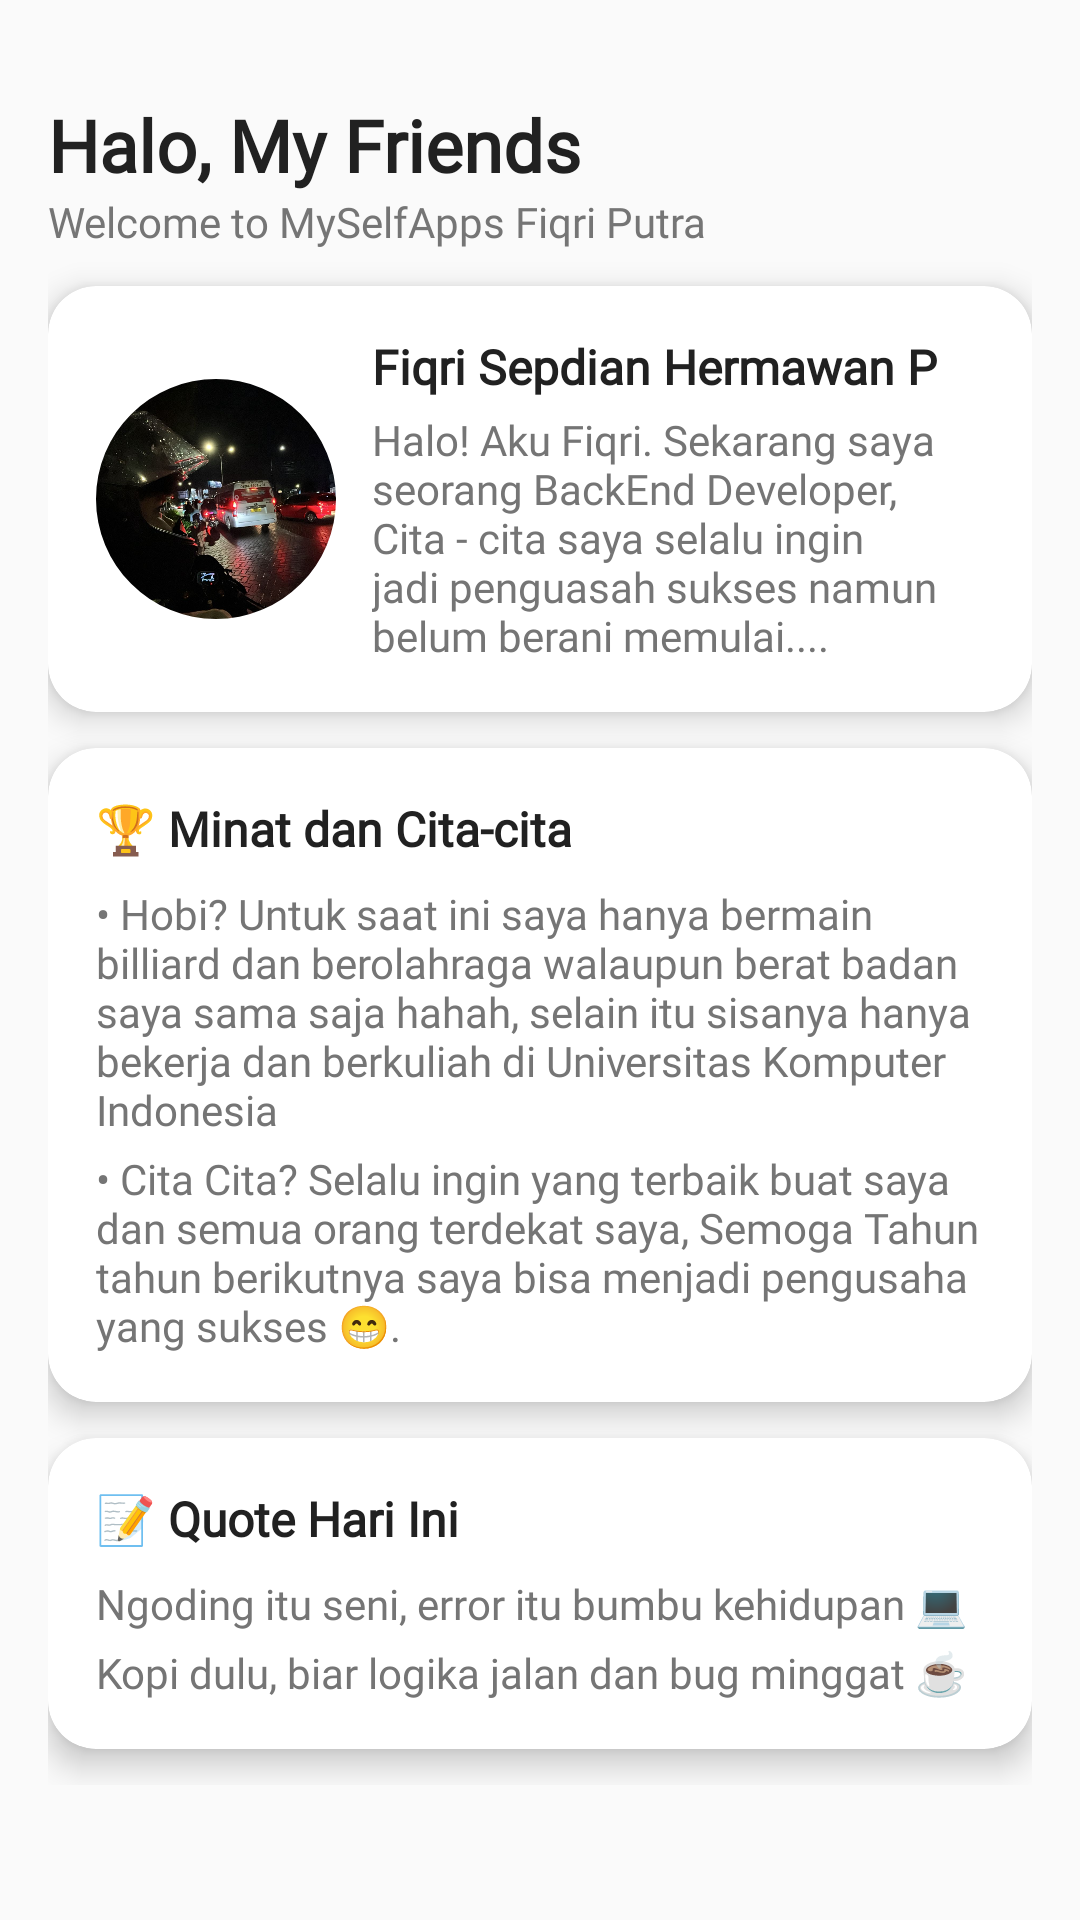

Locate icon controls on the screen. Image size 1080w x 1920h, boxes as bbox=[x1, y1, x2, y2].
foto: bbox=[96, 379, 336, 619]
